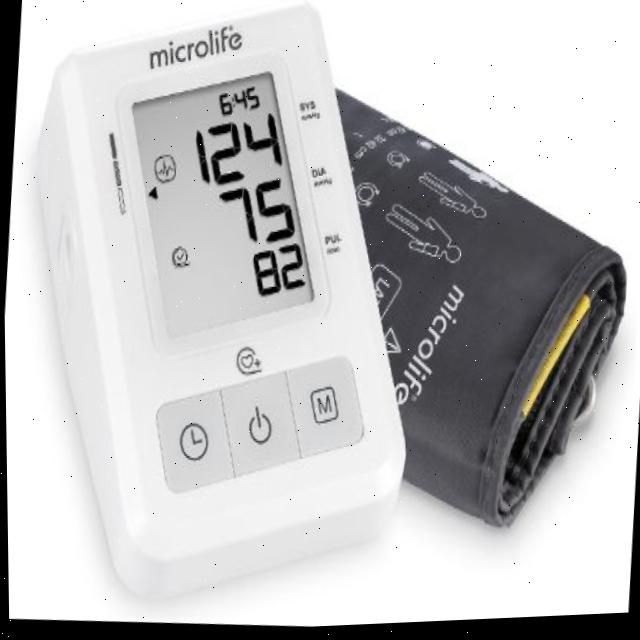dia: (216, 176, 300, 259)
pul: (239, 239, 314, 306)
ssd: (124, 73, 314, 340)
sys: (184, 108, 287, 196)
